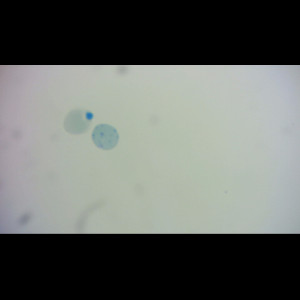aggregate reticulocyte: (90, 122, 121, 152)
erythrocyte: (63, 107, 94, 136)
